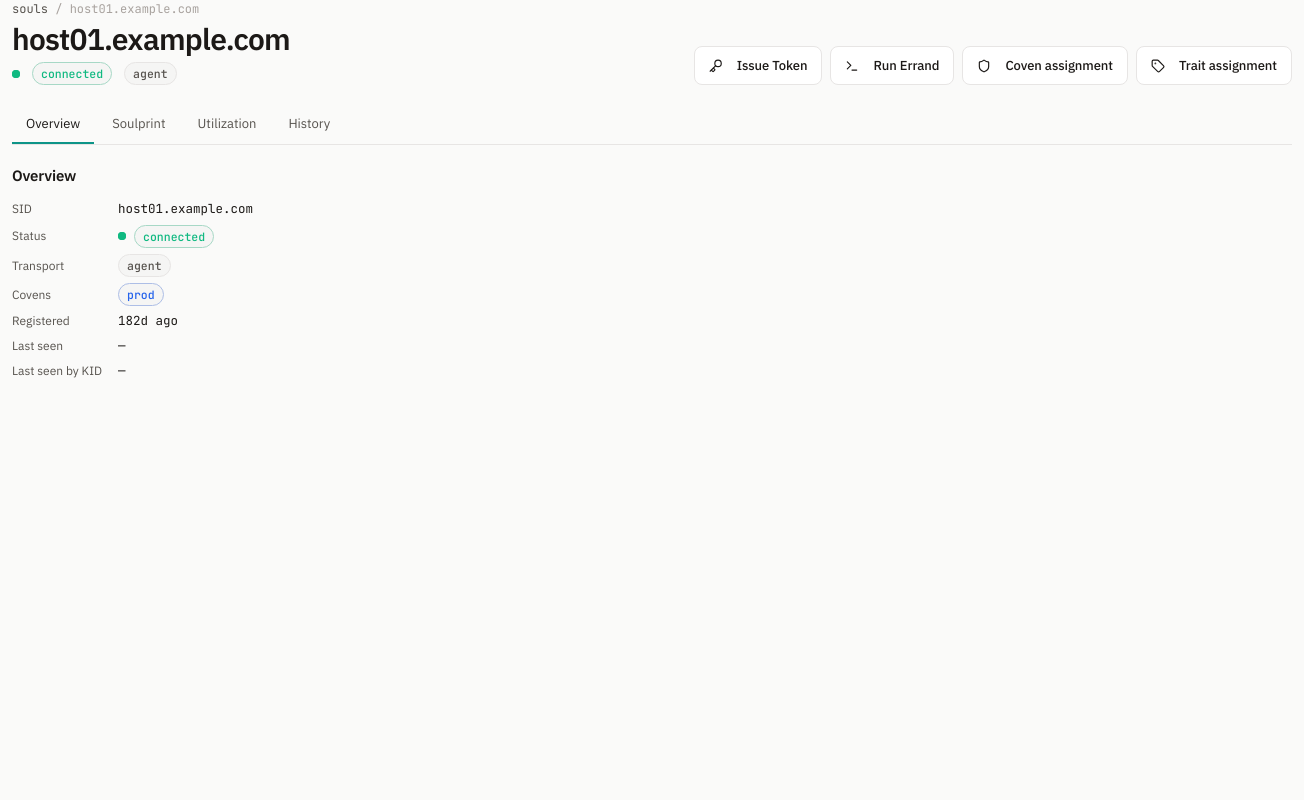
Test: SoulDetail › Soulprint tab renders typed_facts.os.family
The width and height of the screenshot is (1304, 800).
Expected: the heading "host01.example.com" is shown, [12,24,290,54]
Click the tab "Soulprint" at (139, 125), box [98,105,180,144]
(page scrolled)
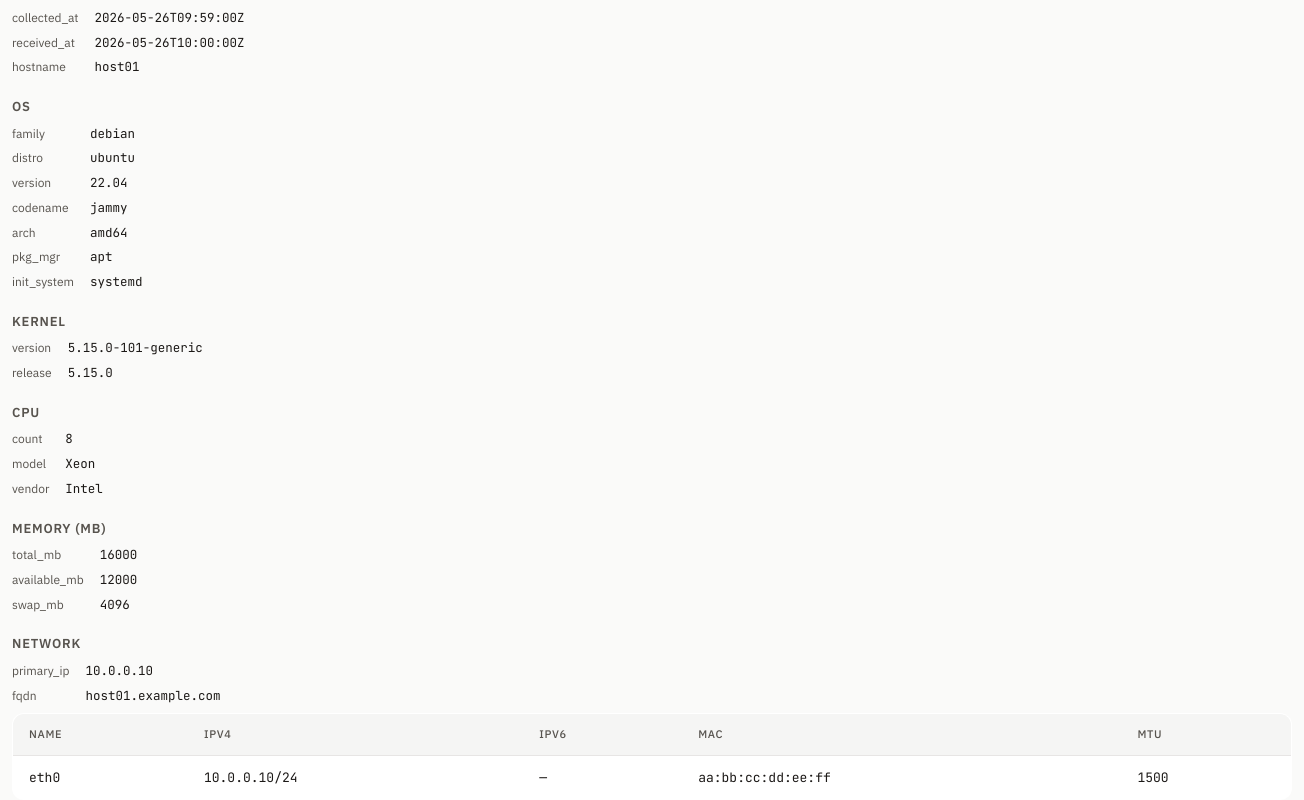
Result: the text "debian" is shown at [90,124,135,142]
Result: the text "ubuntu" is shown at [90,149,135,166]
Result: the text "systemd" is shown at [90,273,143,290]
